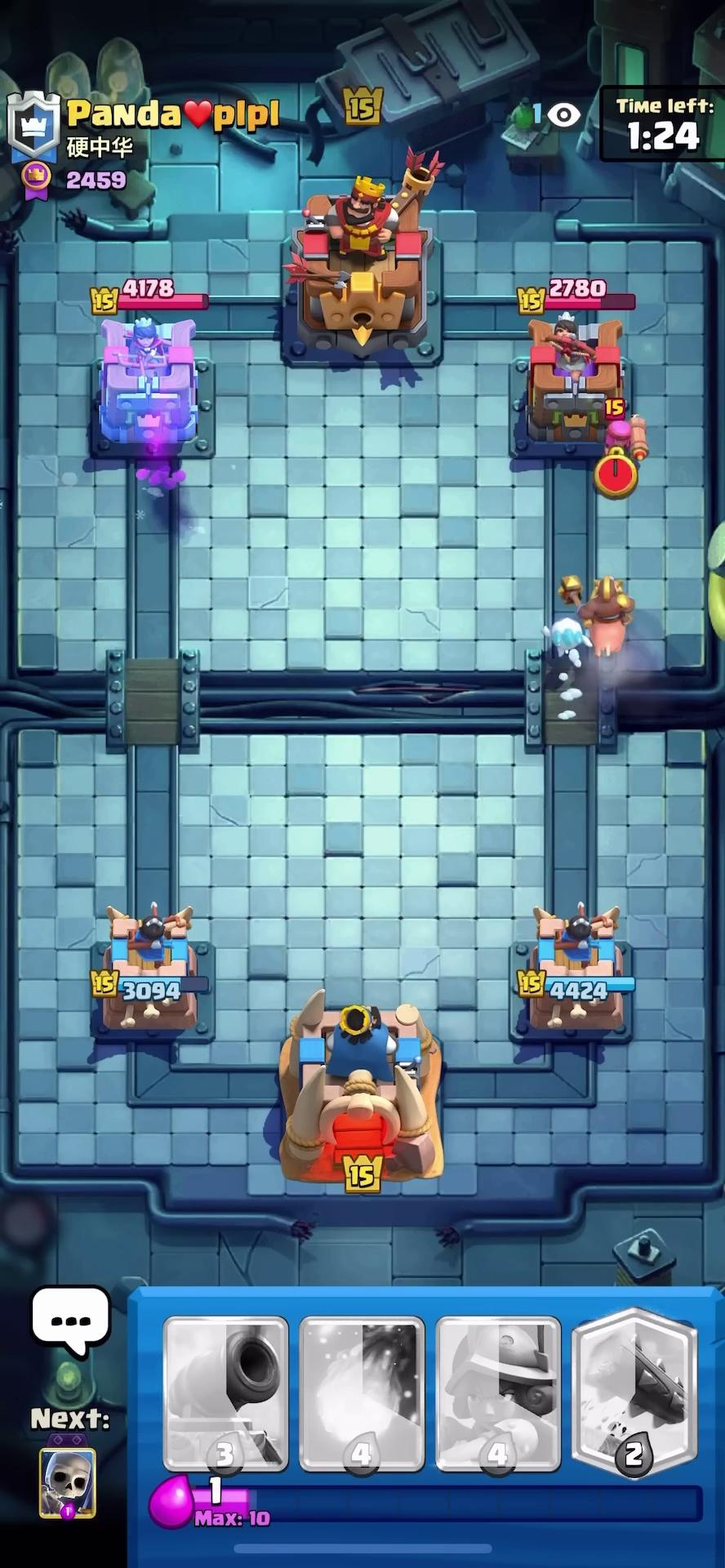hog_rider: (572, 570, 647, 653)
ice_spirit: (531, 600, 602, 657)
